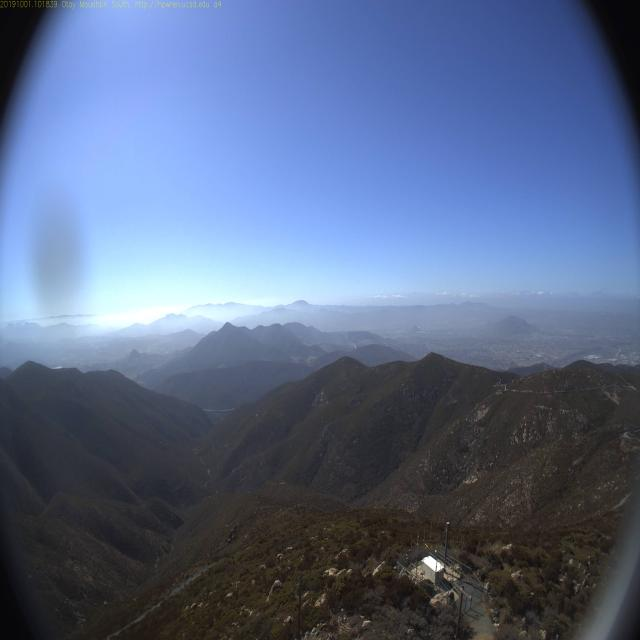smoke: (332, 321, 361, 352)
